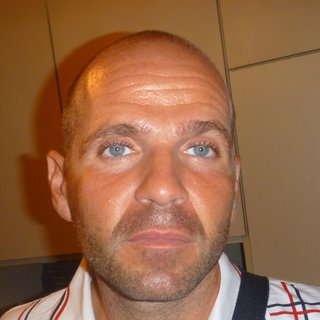eye: (95, 139, 142, 163), (177, 139, 221, 163)
